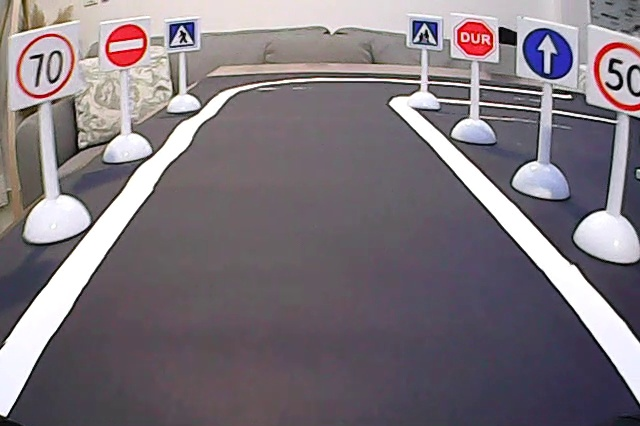do not enter: (103, 20, 152, 70)
pedestrian crossing: (165, 18, 200, 53)
school crossing: (409, 18, 441, 50)
speed limit 50: (592, 37, 640, 113)
speed limit 70: (14, 31, 79, 104)
stop sign: (453, 18, 498, 62)
